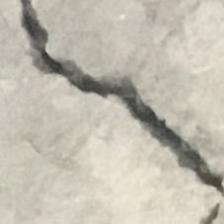Crack: (17, 5, 224, 224)
